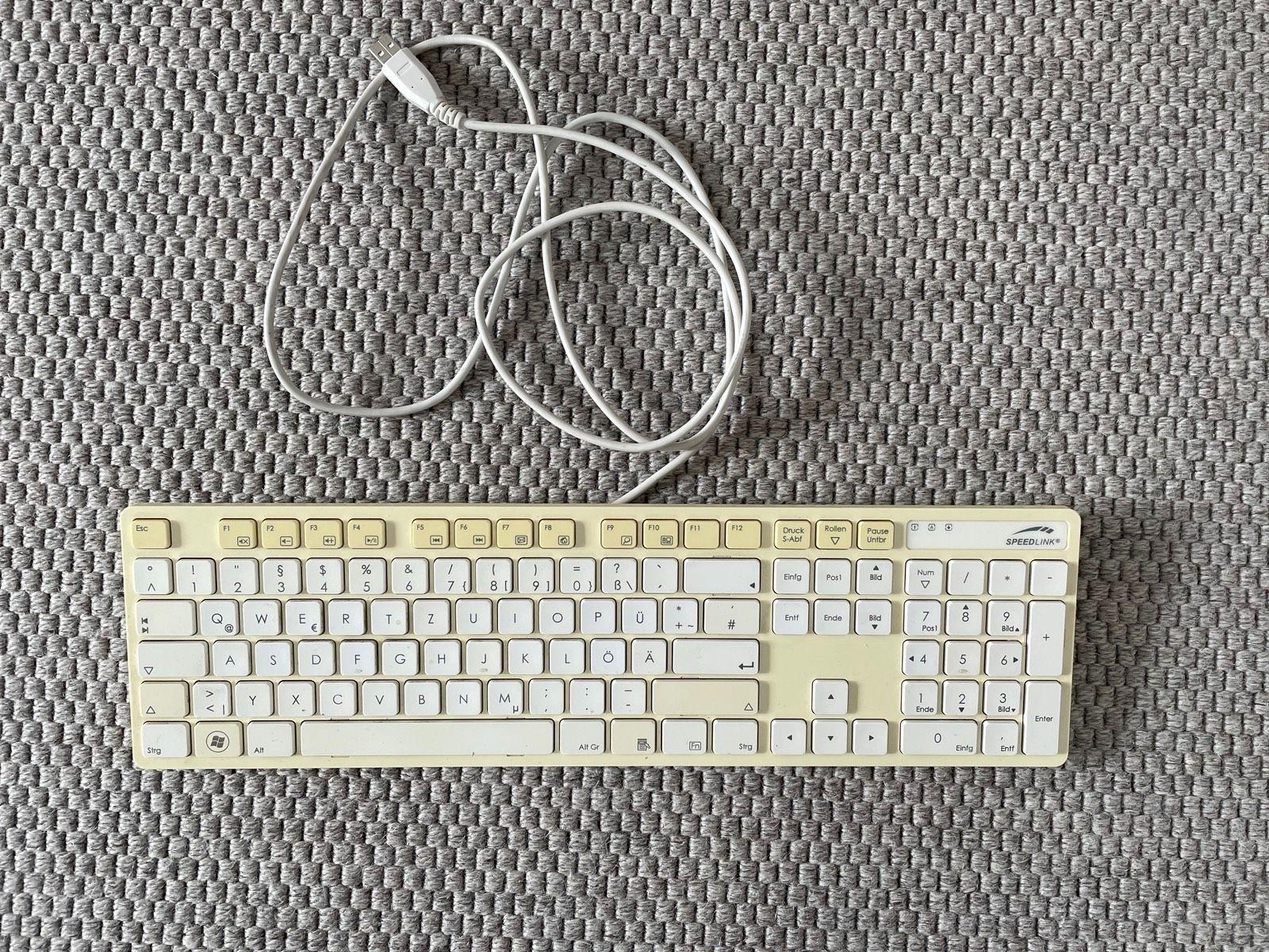0: (556, 553, 594, 591)
1: (174, 555, 214, 593)
2: (217, 555, 257, 593)
3: (259, 555, 299, 593)
4: (303, 554, 342, 591)
5: (345, 554, 385, 593)
6: (388, 553, 427, 591)
7: (431, 554, 470, 593)
8: (473, 554, 511, 593)
9: (515, 554, 553, 593)
a: (210, 636, 249, 674)
accent: (639, 553, 676, 590)
ae: (628, 635, 665, 673)
alt-left: (244, 717, 293, 755)
altgr-right: (556, 716, 605, 754)
b: (401, 676, 439, 714)
c: (316, 677, 355, 715)
caret: (130, 555, 169, 592)
comma: (526, 674, 562, 713)
d: (295, 636, 333, 674)
del: (680, 554, 757, 591)
e: (283, 595, 322, 634)
enter: (669, 635, 758, 673)
f: (337, 636, 374, 674)
g: (378, 636, 417, 674)
h: (421, 635, 458, 674)
hash: (701, 595, 759, 633)
i: (495, 594, 531, 631)
j: (462, 635, 500, 673)
k: (504, 635, 542, 673)
keyboard: (115, 497, 1079, 773)
l: (546, 635, 583, 673)
less: (190, 678, 229, 717)
m: (484, 675, 523, 714)
minus: (608, 675, 645, 712)
n: (443, 675, 481, 713)
o: (535, 594, 573, 632)
oe: (587, 635, 624, 674)
p: (577, 594, 614, 632)
plus: (659, 593, 696, 631)
point: (566, 675, 604, 712)
q: (197, 595, 237, 635)
r: (325, 595, 364, 633)
s: (252, 636, 291, 675)
shift-left: (137, 678, 186, 716)
shift-lock: (136, 636, 207, 676)
shift-right: (649, 674, 757, 714)
space: (295, 716, 553, 754)
ss: (597, 554, 635, 591)
strg-left: (137, 718, 194, 762)
strg-right: (710, 716, 758, 754)
t: (368, 595, 406, 633)
tab: (134, 595, 193, 635)
u: (453, 594, 490, 633)
ue: (618, 594, 656, 632)
v: (359, 676, 397, 714)
w: (240, 595, 279, 634)
x: (274, 678, 314, 716)
y: (233, 678, 271, 715)
z: (410, 595, 448, 634)
